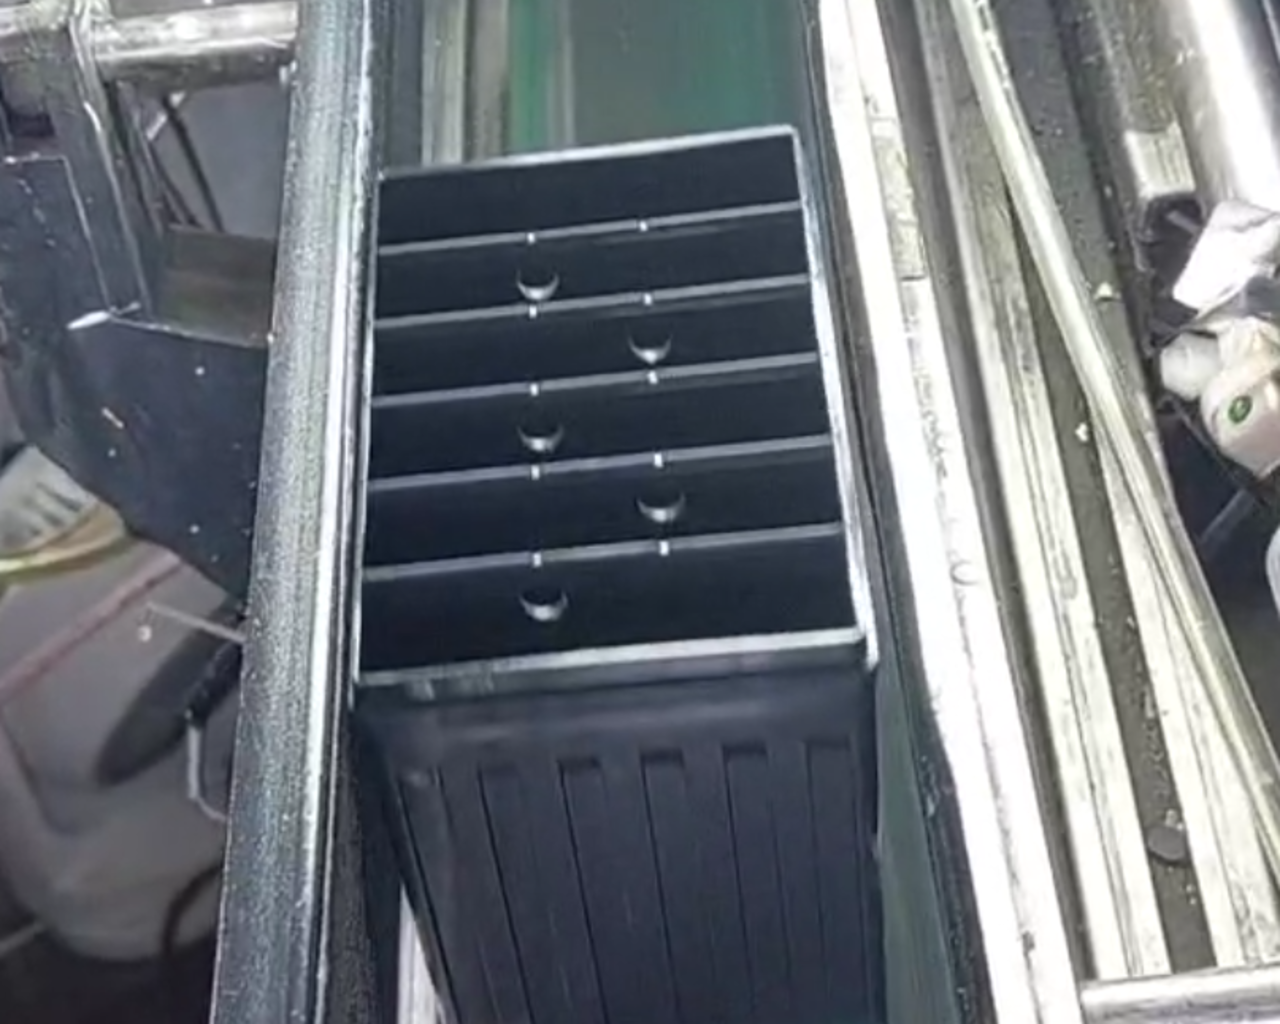box: (327, 106, 897, 729)
round: (616, 466, 703, 537), (495, 245, 577, 310), (504, 571, 583, 631), (502, 396, 575, 461), (612, 310, 683, 373)
